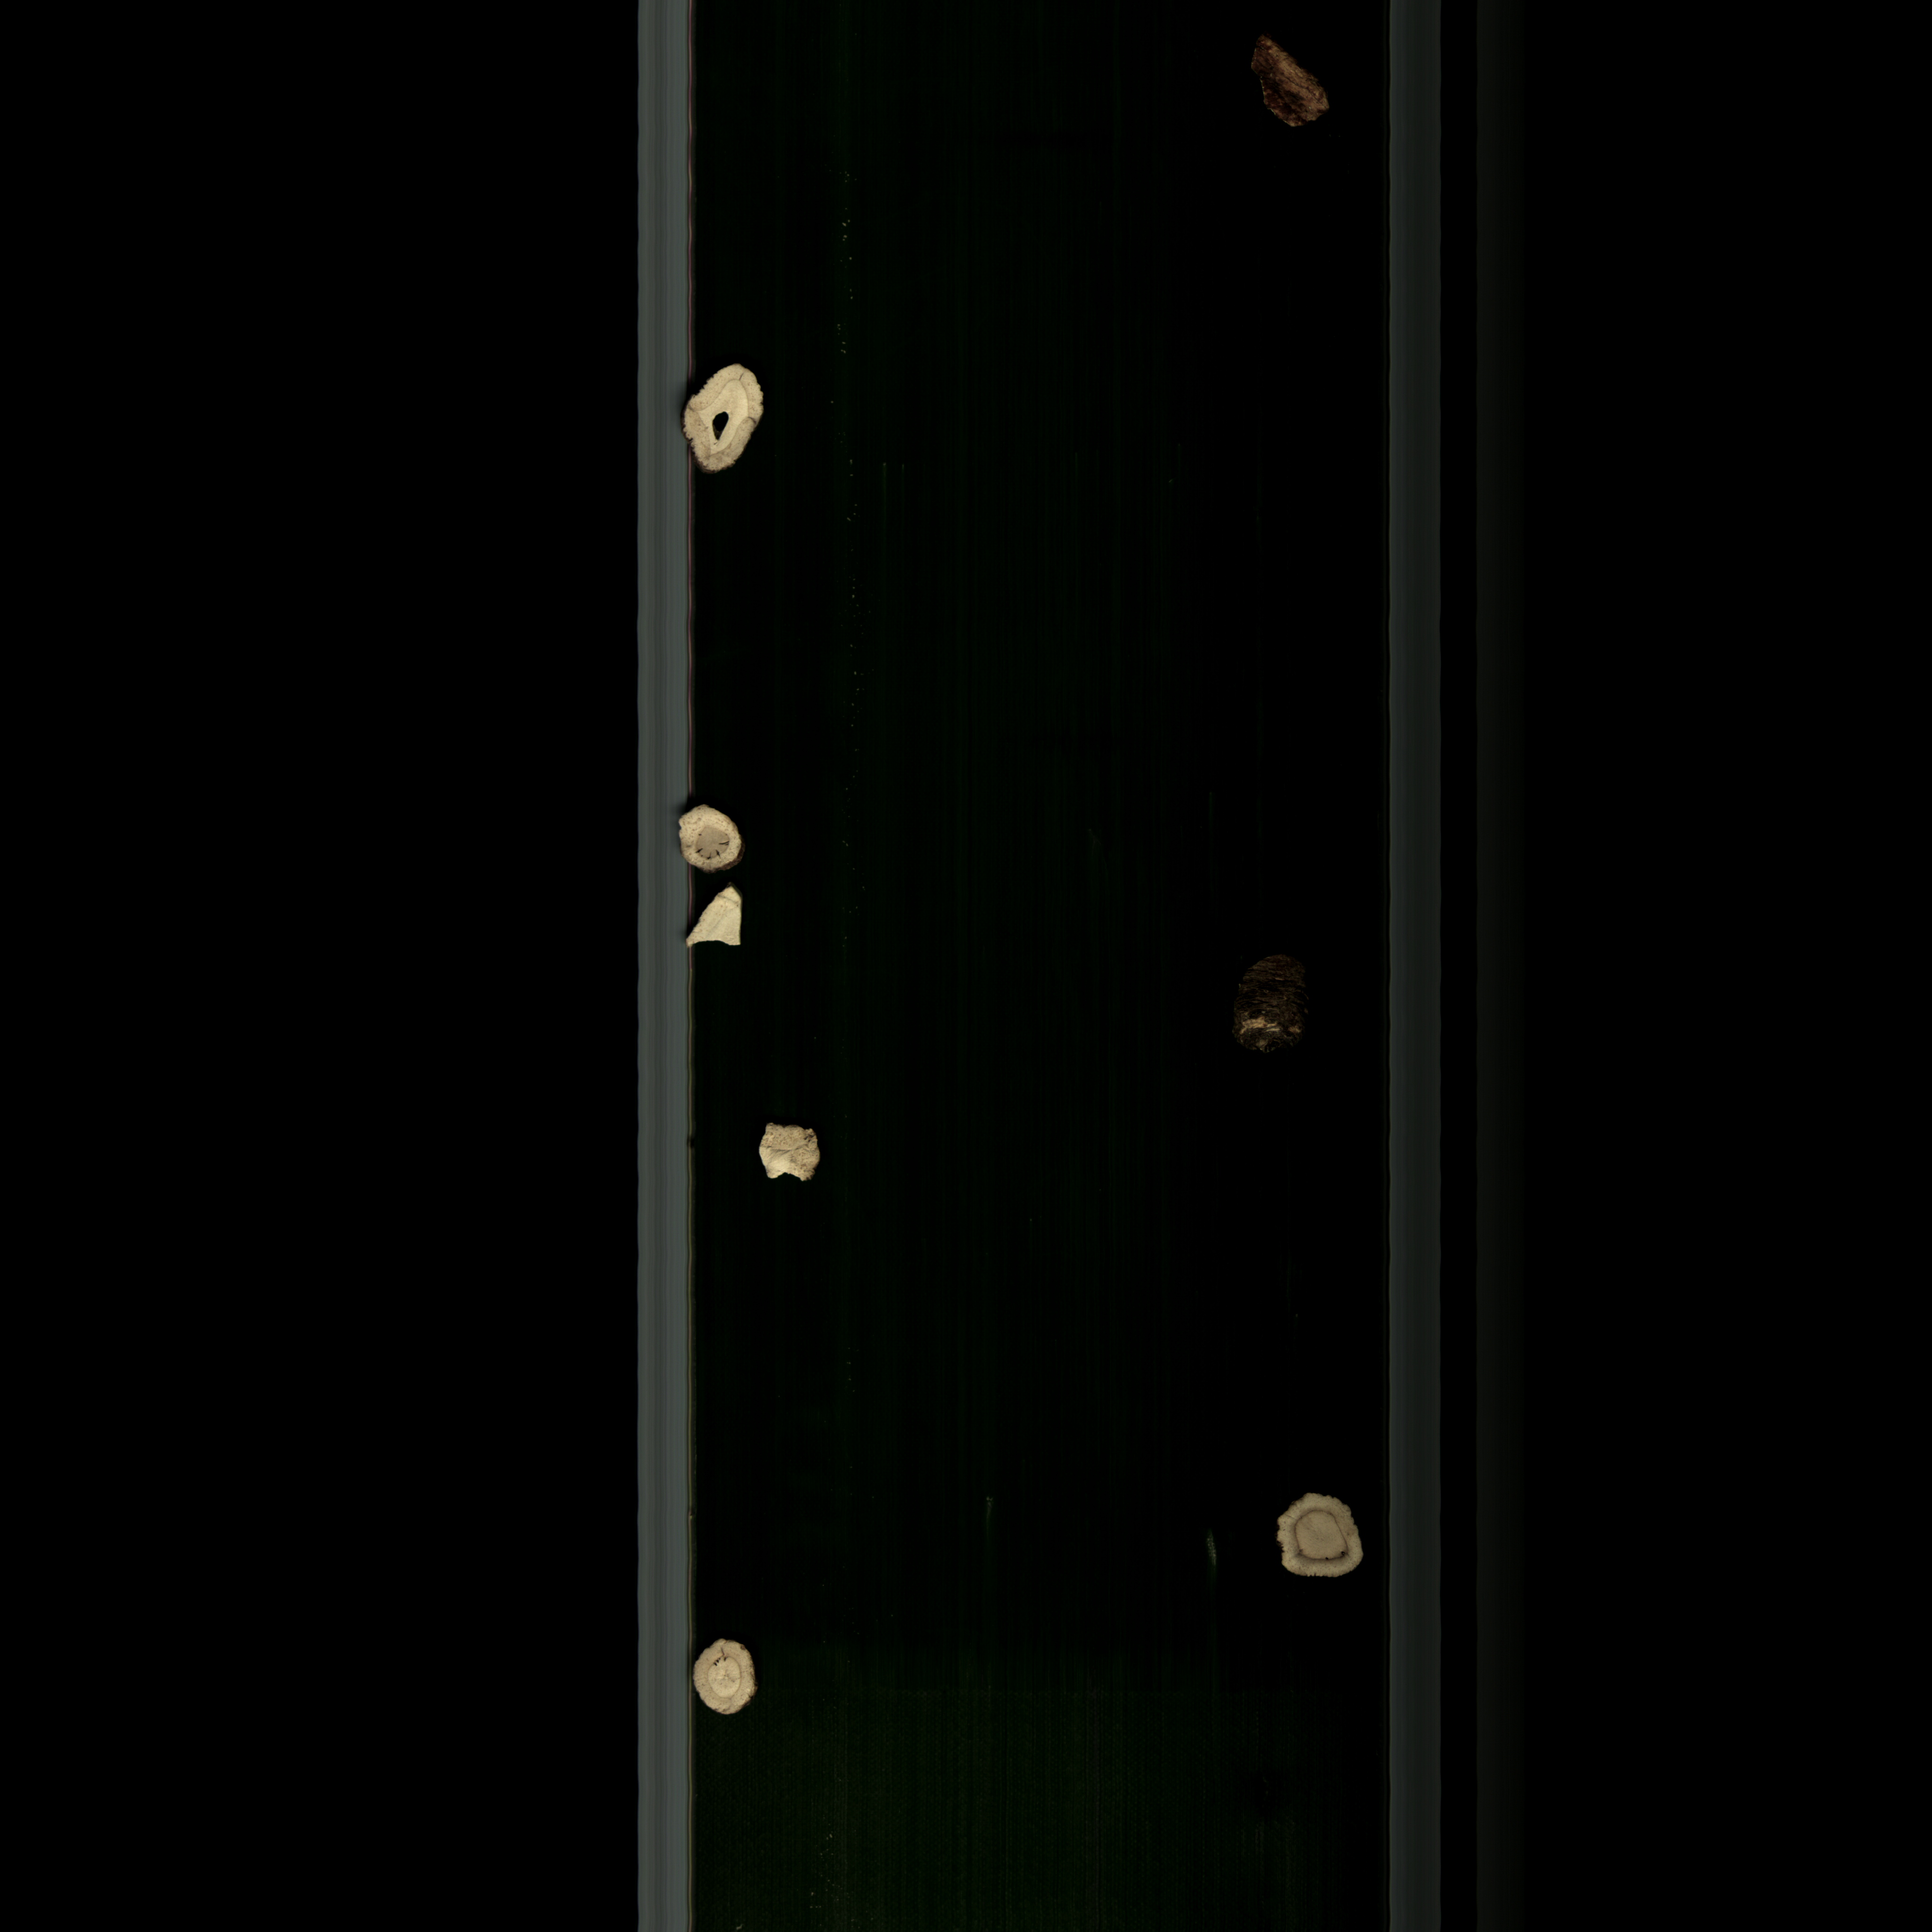bark: (1223, 943, 1330, 1090), (1251, 37, 1353, 147)
debris: (738, 1108, 849, 1203), (679, 890, 763, 971)
hole: (674, 356, 789, 499), (678, 1621, 786, 1736), (662, 796, 777, 881)
moldy: (1267, 1483, 1378, 1589)
